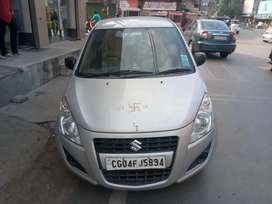CG04FJ5834: (106, 156, 165, 169)
